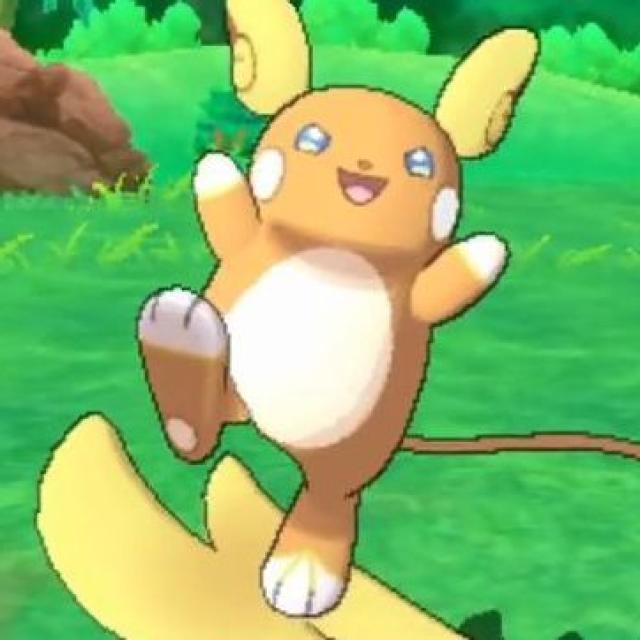Raichu: (165, 18, 514, 617)
